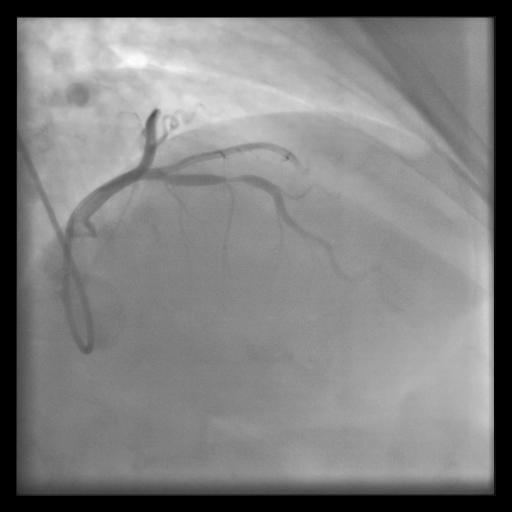Stenosis: (222, 173, 239, 186)
